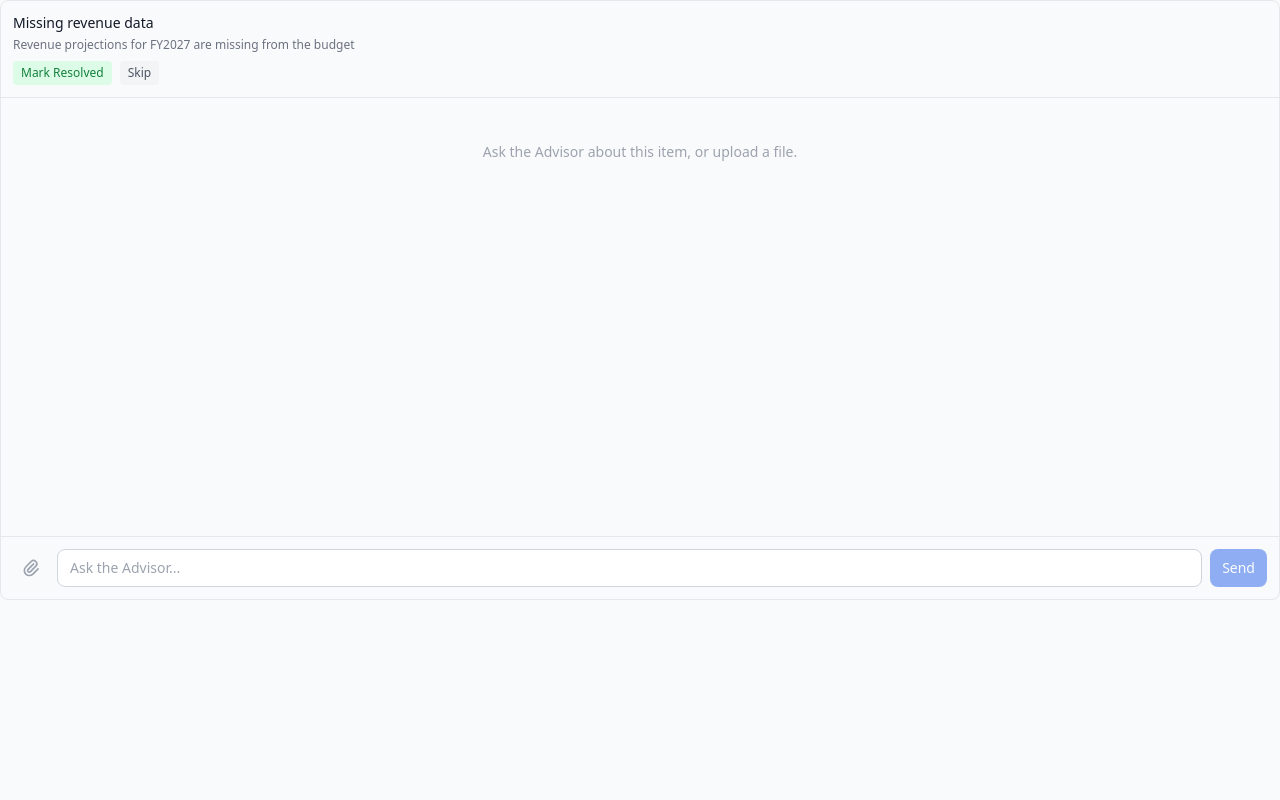
it: TodoChat › toggles file uploader on attachment button click
Click the button titled "Upload file". click: click(31, 568)
box: x1=13 y1=549 x2=49 y2=587
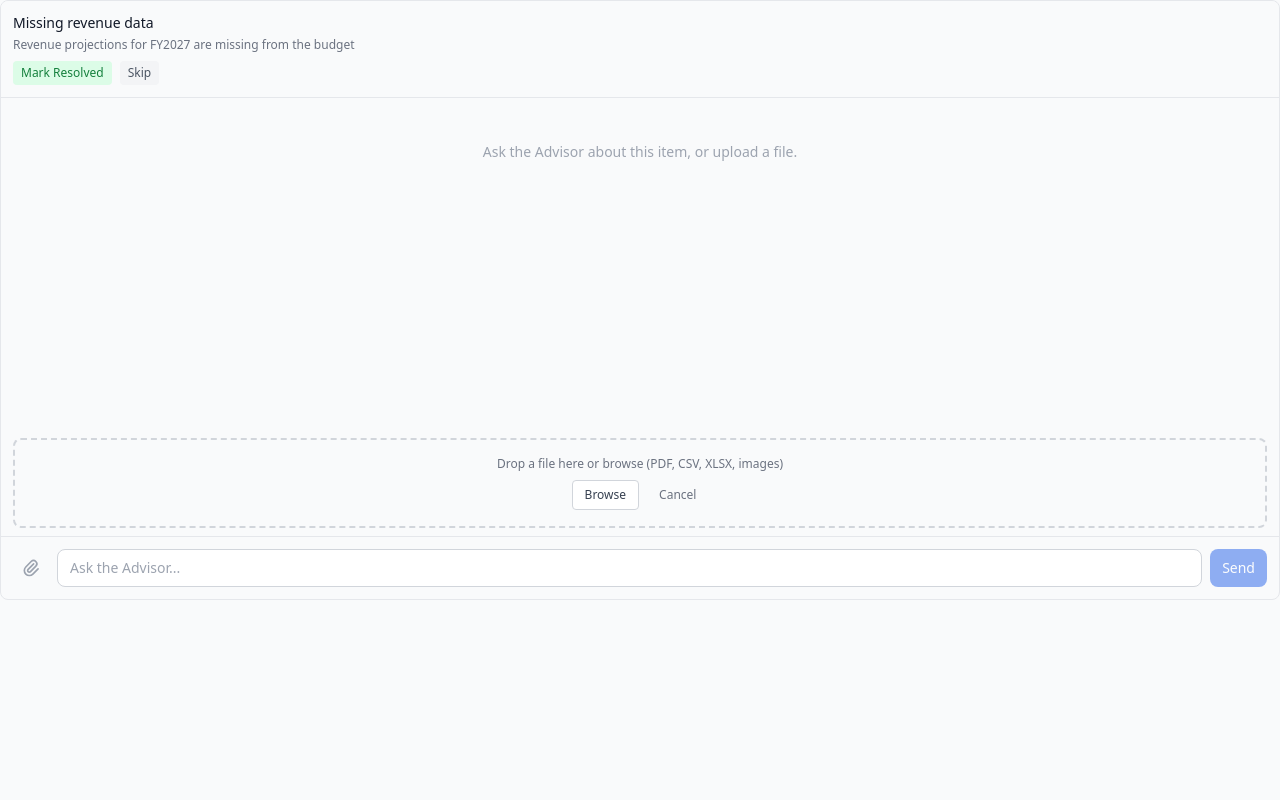
Result: the file field "Browse" is shown at x1=572 y1=480 x2=639 y2=510
Result: the button "Cancel" is shown at x1=647 y1=480 x2=708 y2=510
